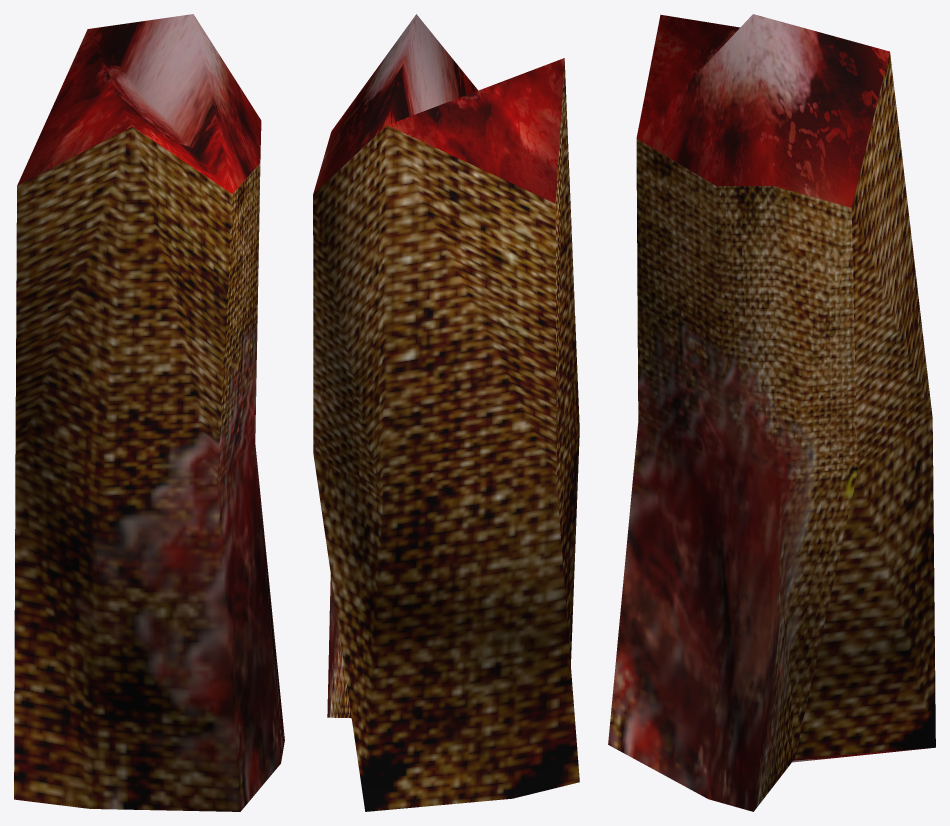
Rendered from rt_lowleg.fbx.
3 renders of one model, left to right at view 1: azimuth 30°, elevation 25°; view 2: azimuth 150°, elevation 25°; view 3: azimuth 270°, elevation 25°, orthographic. The views are drawn at different scales.
Parts seen in each view (by area): view 1: rt_lowleg_gib; view 2: rt_lowleg_gib; view 3: rt_lowleg_gib.
Part boxes in pixels (<box>): rt_lowleg_gib: <box>14,14,284,811</box>; rt_lowleg_gib: <box>313,14,579,811</box>; rt_lowleg_gib: <box>608,14,935,811</box>.
Size of the model in its own units: 0.1857 by 0.5097 by 0.1973.
